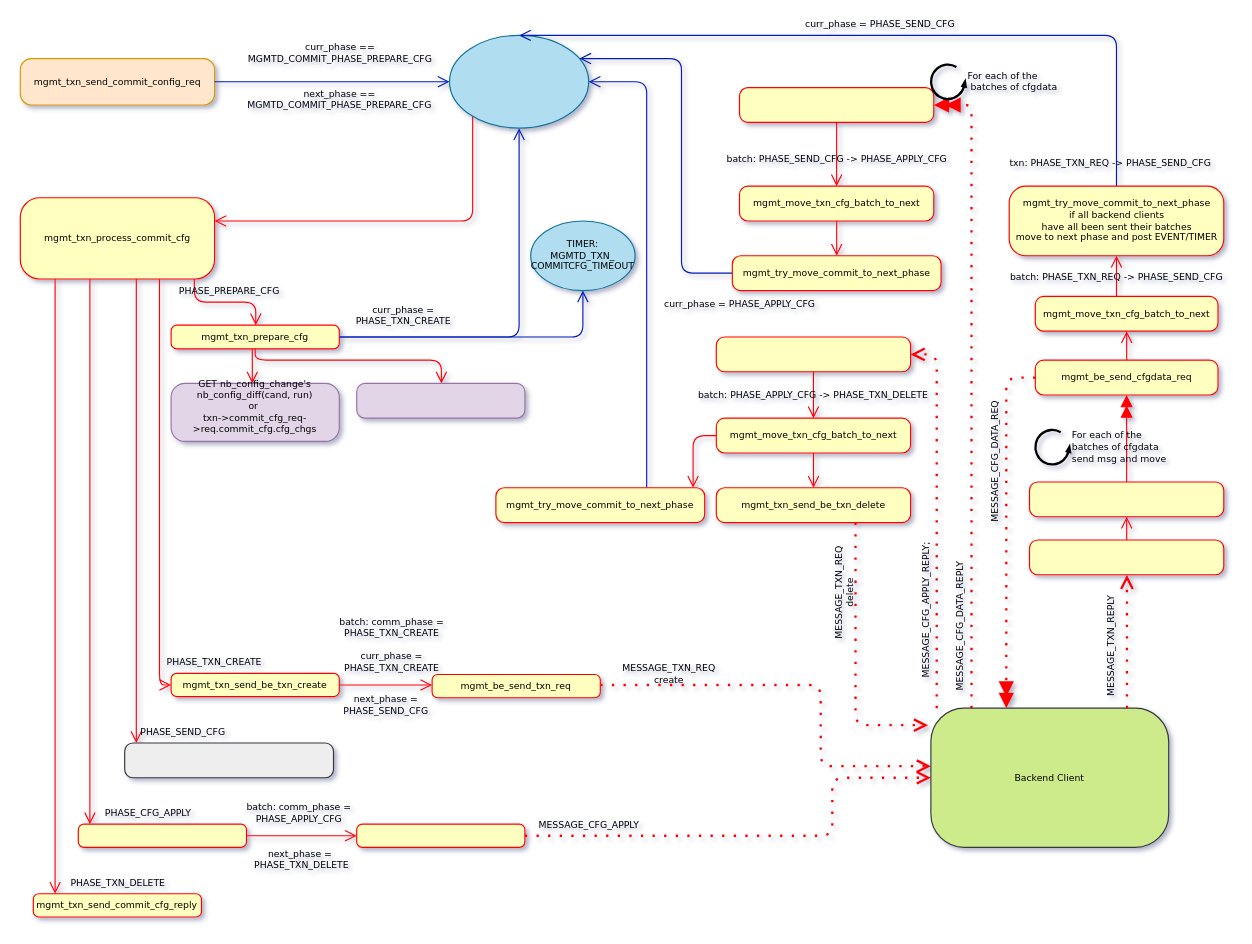
Image size: 1252x944. Some labels were removed from this diagram. Each missing label, with the centre of its shape:
does nothing cfg_data replys will cause next transition: the point at 229,760
mgmt_be_send_cfgapply_req: the point at 440,835
mgmt_txn_create_config_batches: the point at 440,400
mgmt_txn_notify_be_cfg_apply_reply for each batch id in reply: the point at 813,354
mgmt_txn_notify_be_cfgdata_reply: the point at 836,104
mgmt_txn_notify_be_txn_reply: the point at 1126,557
mgmt_txn_send_be_cfg_apply: the point at 161,835
mgmt_txn_send_be_cfg_data: the point at 1126,499
TIMER: MGMTD_TXN_PROC_COMCFG: the point at 518,81
